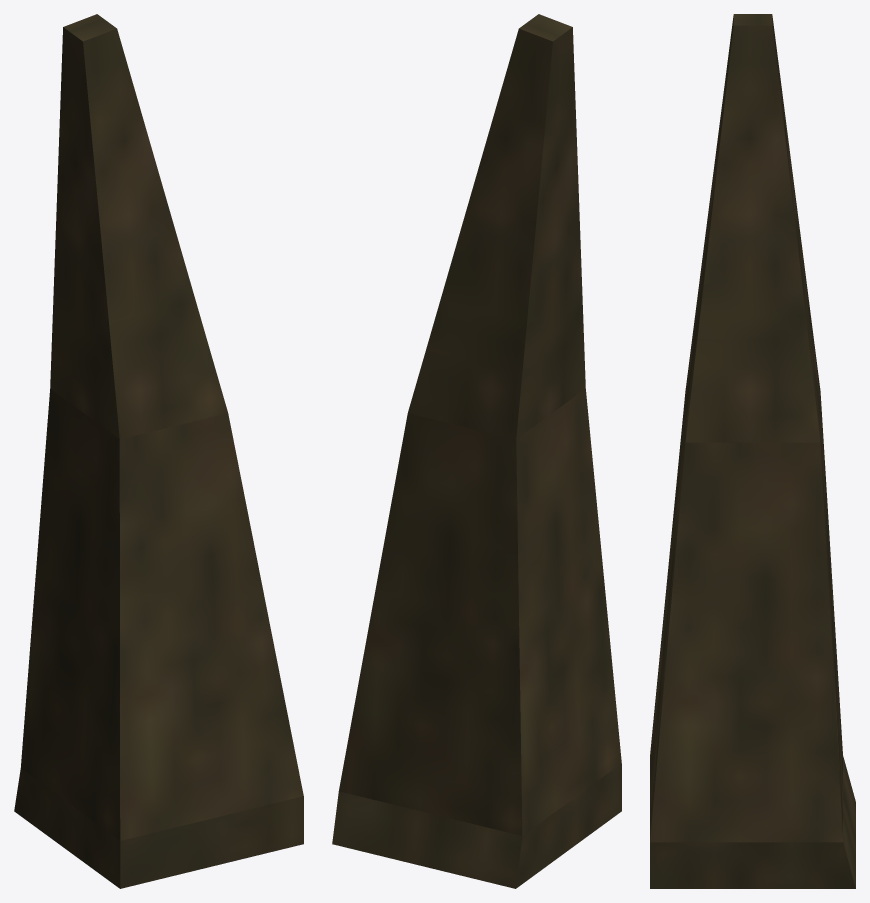
The model's file is wooden_spike_large.obj.
3 views of the same model, side by side, from view 1: azimuth 30°, elevation 25°; view 2: azimuth 150°, elevation 25°; view 3: azimuth 270°, elevation 25° (orthographic). The views are drawn at different scales.
Parts seen in each view (by area): view 1: cuboid; view 2: cuboid; view 3: cuboid.
Part boxes in pixels (left/top/right/bottom): cuboid: left=14, top=14, right=303, bottom=888; cuboid: left=332, top=14, right=621, bottom=888; cuboid: left=650, top=14, right=855, bottom=888.
Bounding box in the file's own units: 0.5 × 2.13 × 0.5.
